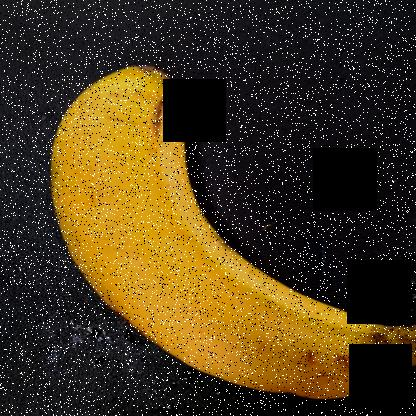freshripe: (38, 56, 415, 415)
